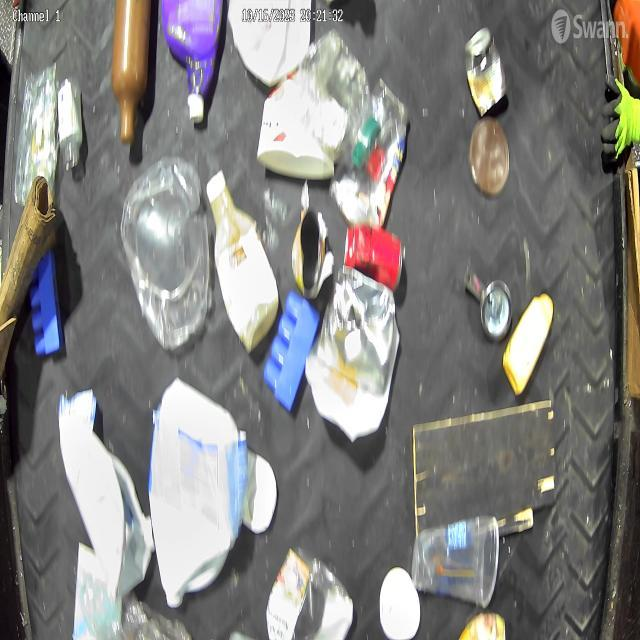can: (464, 24, 508, 119), (344, 224, 404, 292), (291, 209, 327, 299), (480, 278, 514, 342)
milk_jug: (148, 374, 242, 610), (226, 0, 313, 88)
non_white_jug: (161, 0, 225, 124)
